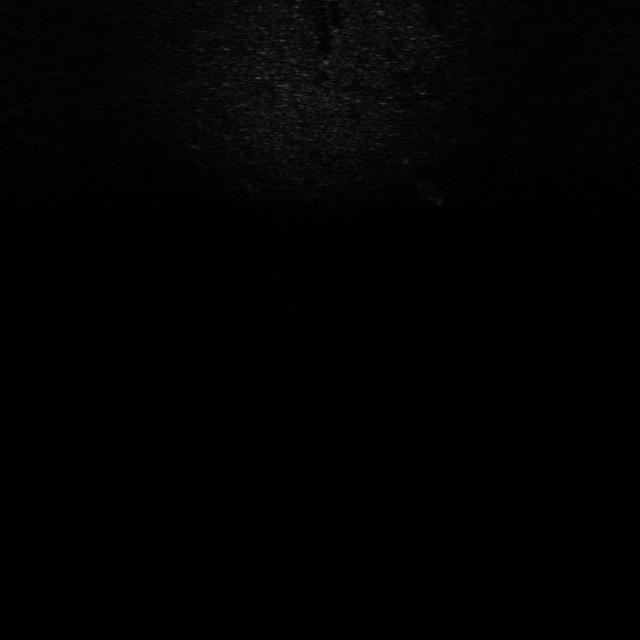human body: (401, 150, 463, 212)
